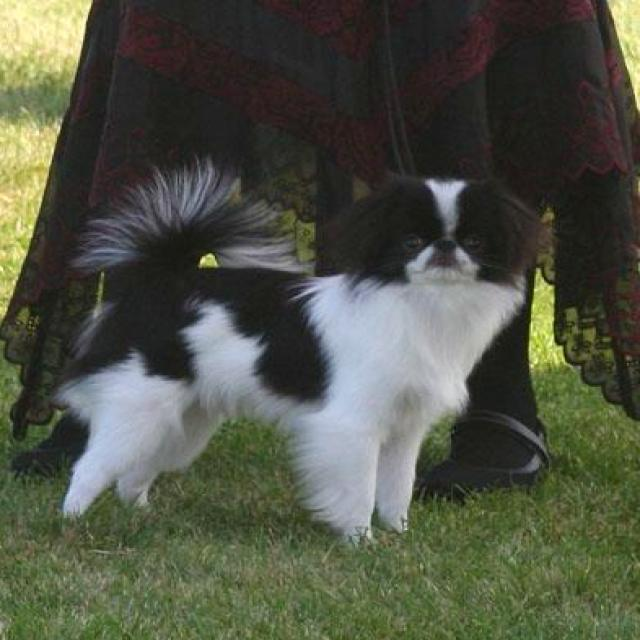husky: (42, 153, 562, 552)
